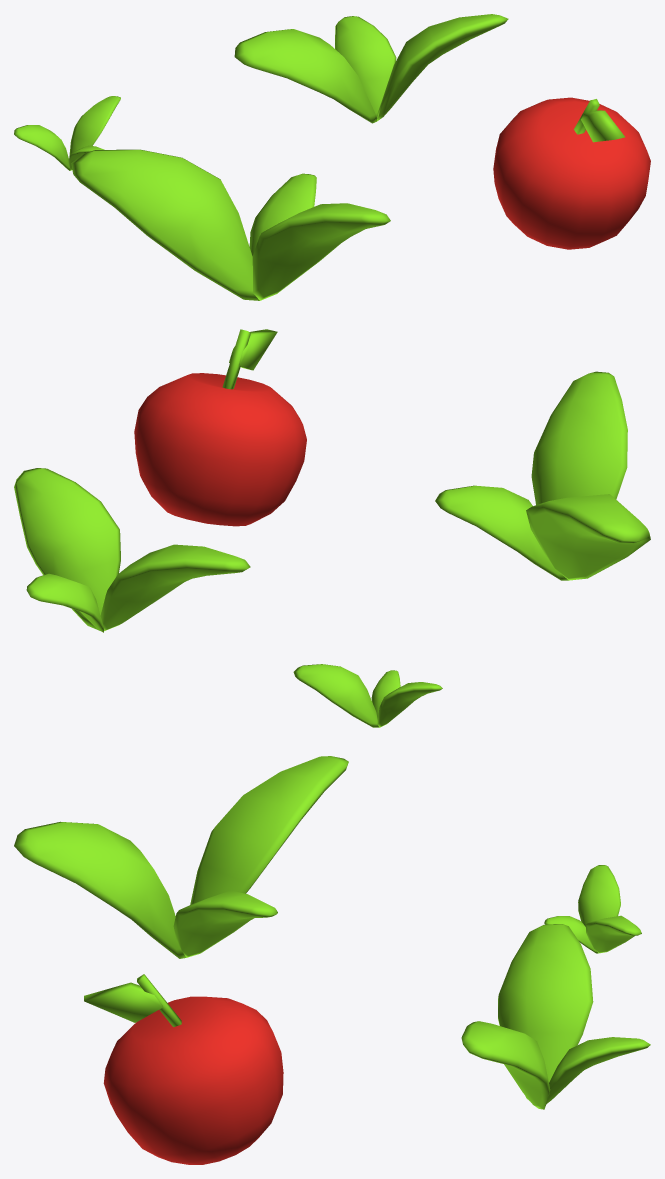
The model's file is orange_with_grass.fbx.
3 views of the same model, one above another, from view 1: azimuth 30°, elevation 25°; view 2: azimuth 150°, elevation 25°; view 3: azimuth 270°, elevation 25° (orthographic). The views are drawn at different scales.
Parts seen in each view (by area): view 1: Sphere.001; view 2: Sphere.001; view 3: Sphere.001.
Boxes of the visible parts, left/top/right/bottom form: Sphere.001: left=14, top=14, right=650, bottom=300; Sphere.001: left=14, top=329, right=650, bottom=727; Sphere.001: left=14, top=756, right=650, bottom=1164.
Bounding box in the file's own units: 127 × 37.64 × 121.
